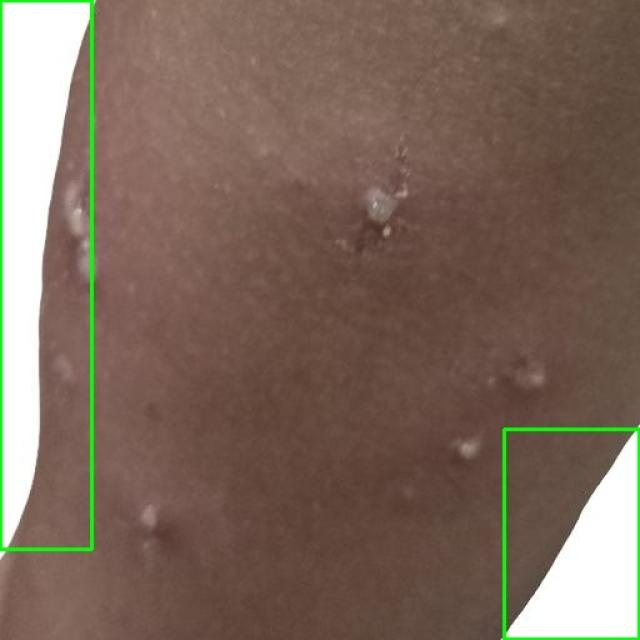Scabies: (0, 0, 92, 550), (504, 429, 639, 639)
